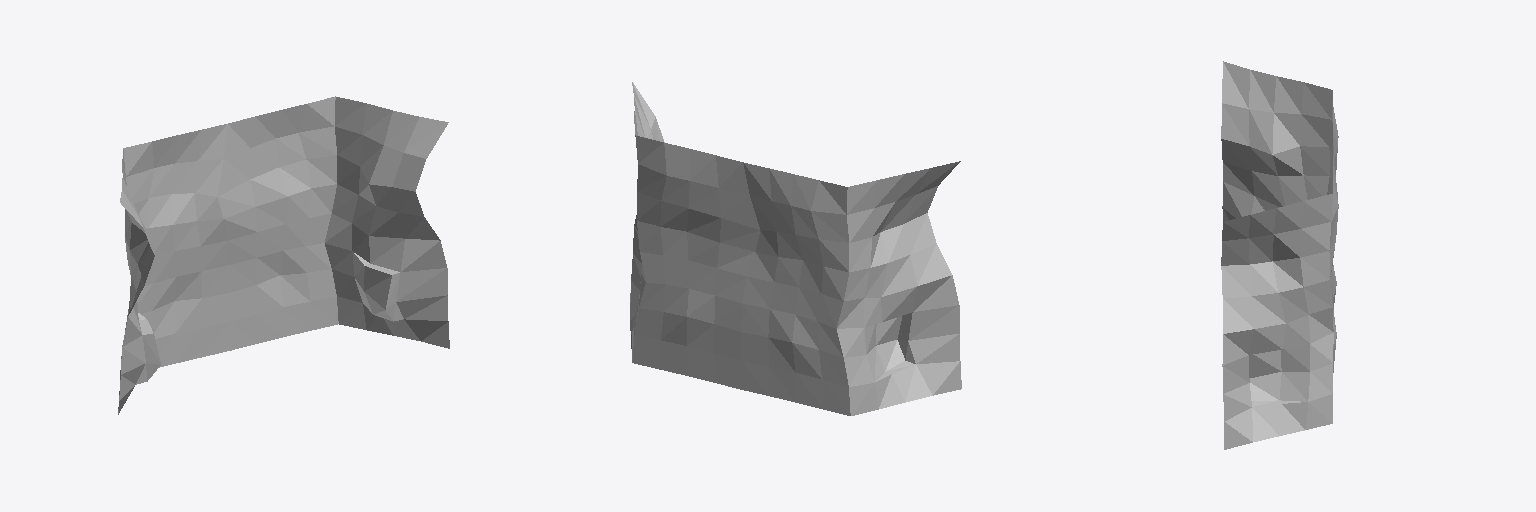
The model's file is piece.obj.
3 views of the same model, side by side, from view 1: azimuth 30°, elevation 25°; view 2: azimuth 150°, elevation 25°; view 3: azimuth 270°, elevation 25° (orthographic).
Visible parts, largest first — view 1: Piece; view 2: Piece; view 3: Piece.
Part boxes in pixels (x1,y1,x2,y2): Piece: (118, 96, 449, 414); Piece: (630, 82, 961, 415); Piece: (1221, 61, 1338, 449).
Bounding box in the file's own units: 161 × 106 × 49.19.